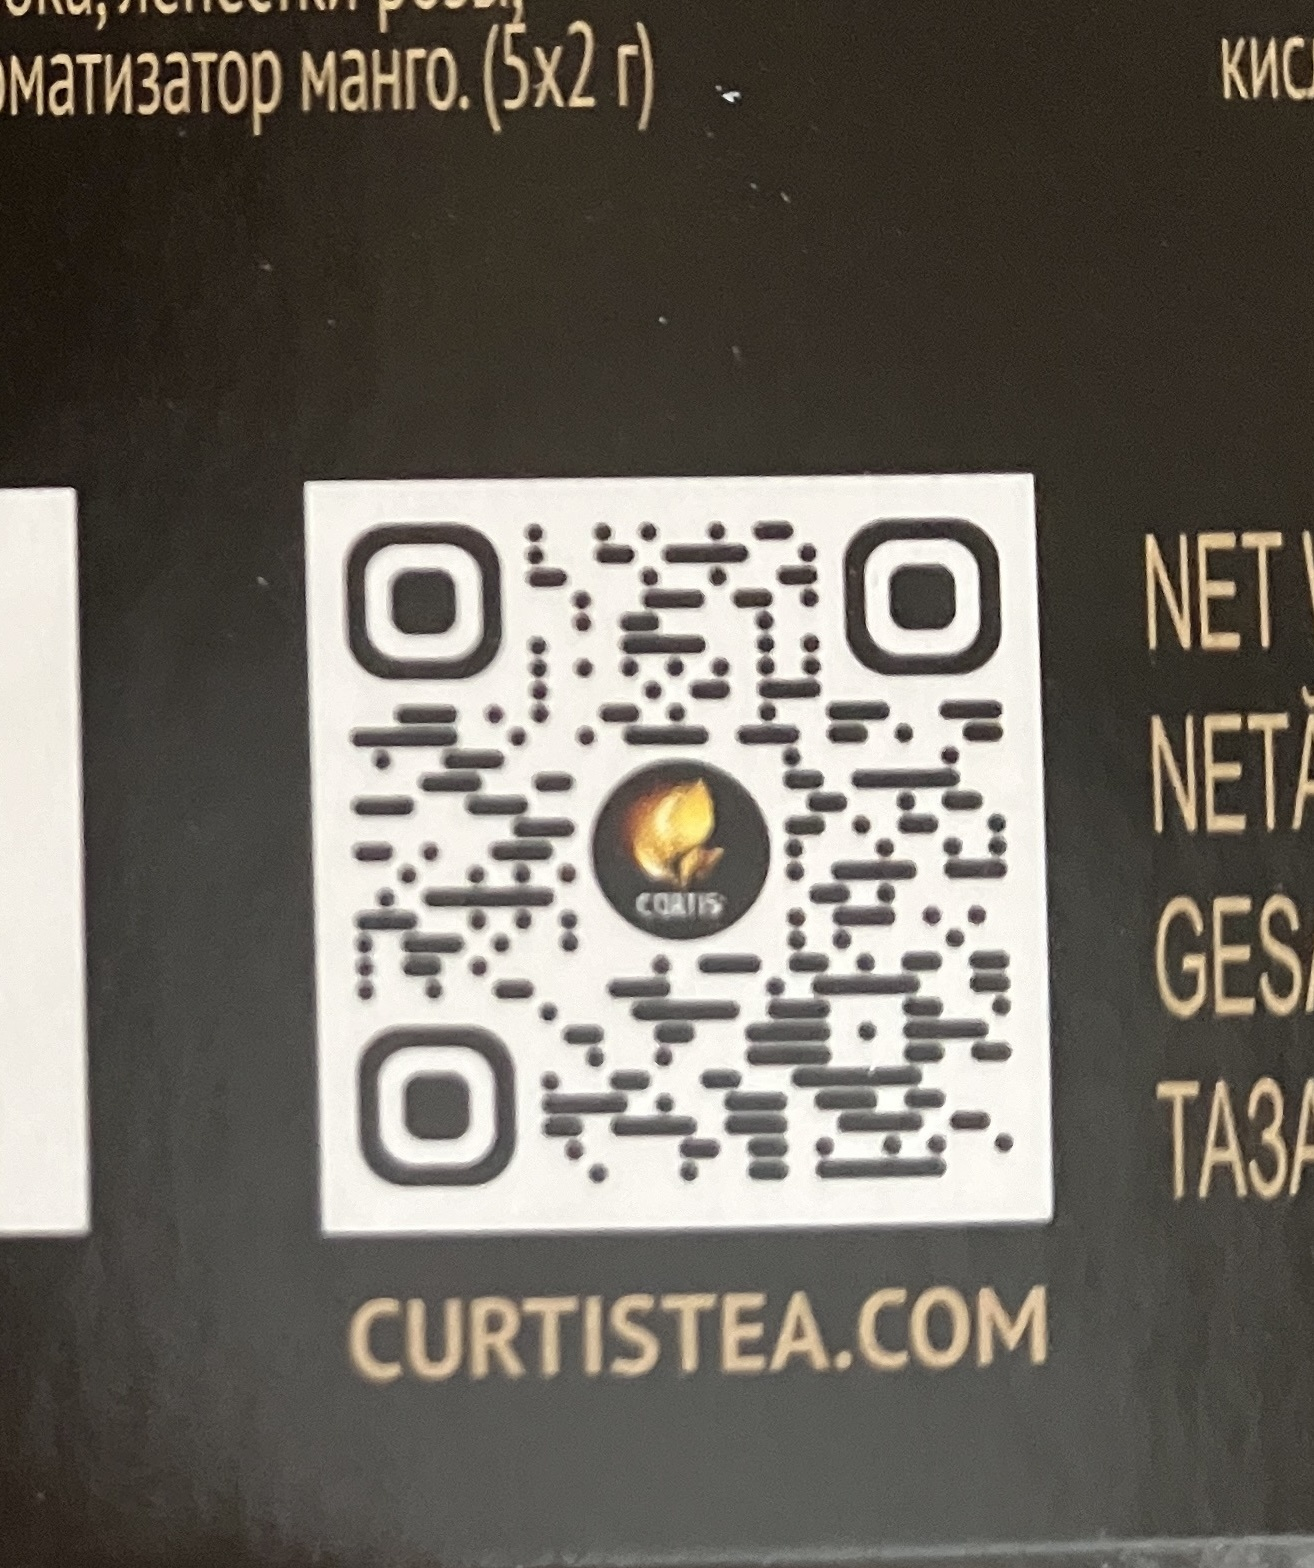2d: (342, 515, 1017, 1191)
